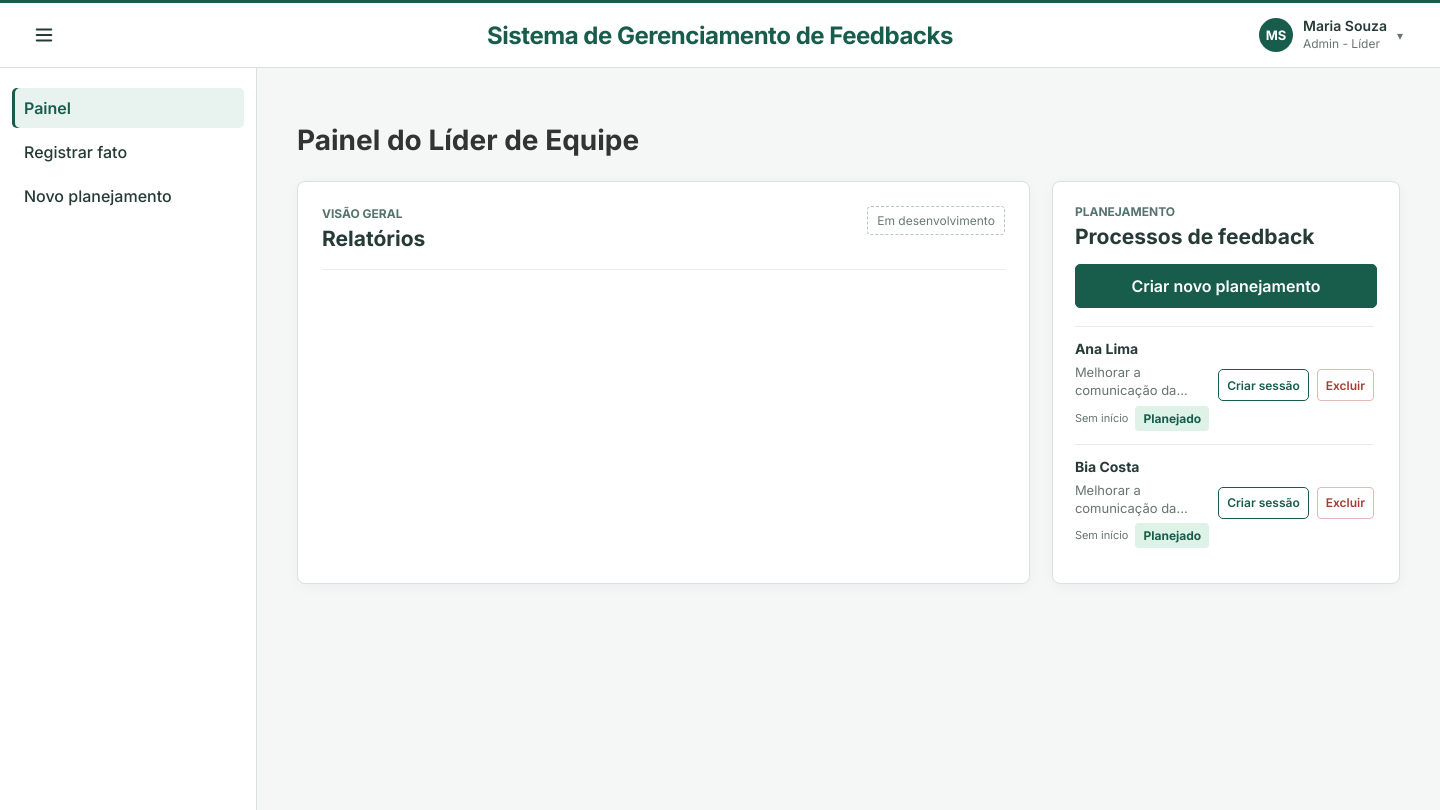
Test: Dashboard › deve manter bloqueado o botão que ainda espera resposta quando outro termina
This screenshot has width=1440, height=810.
Click the 1st button "Criar sessão": (1264, 385) x1=1218 y1=369 x2=1309 y2=401
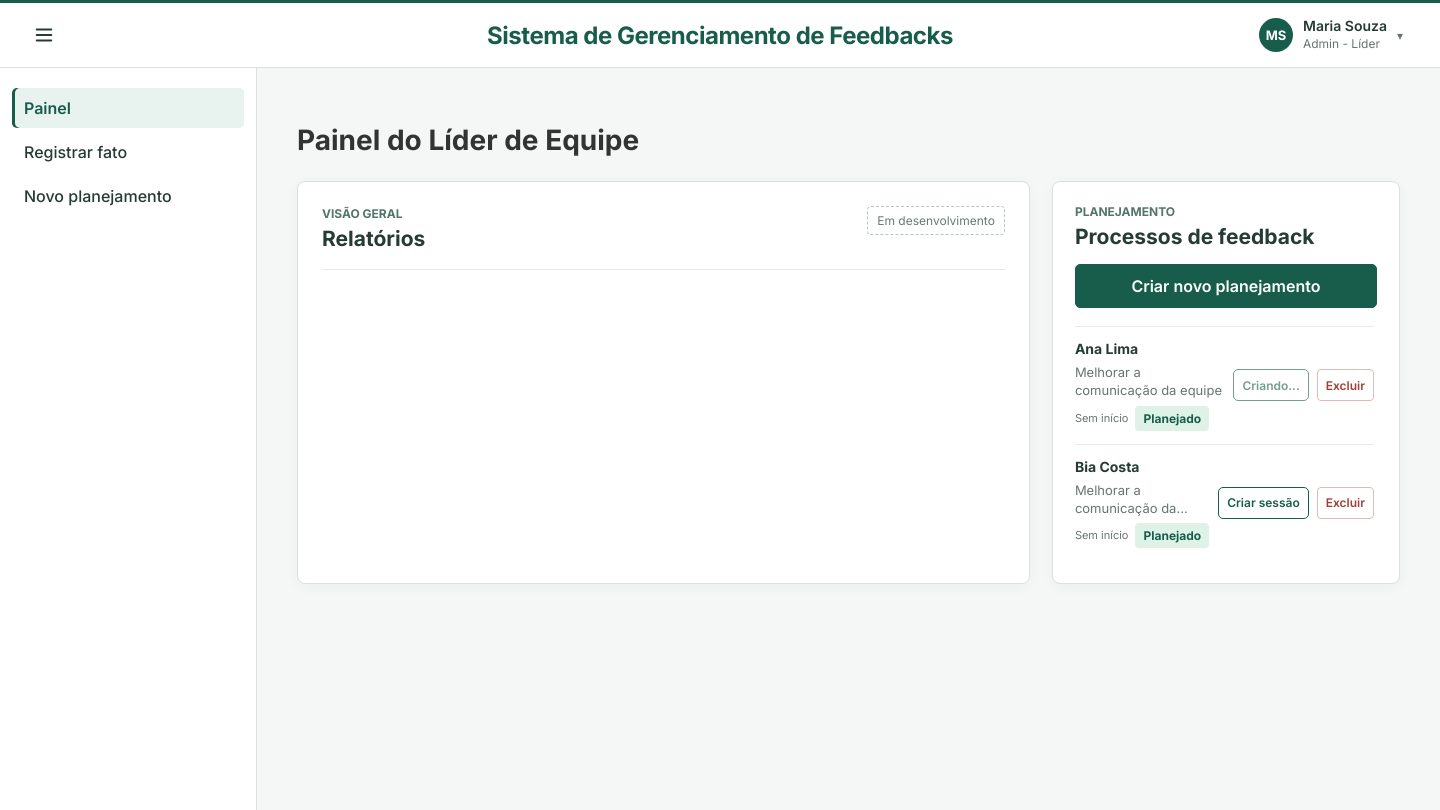
Click the button "Criar sessão": (1264, 503) x1=1218 y1=487 x2=1309 y2=519
(page scrolled)
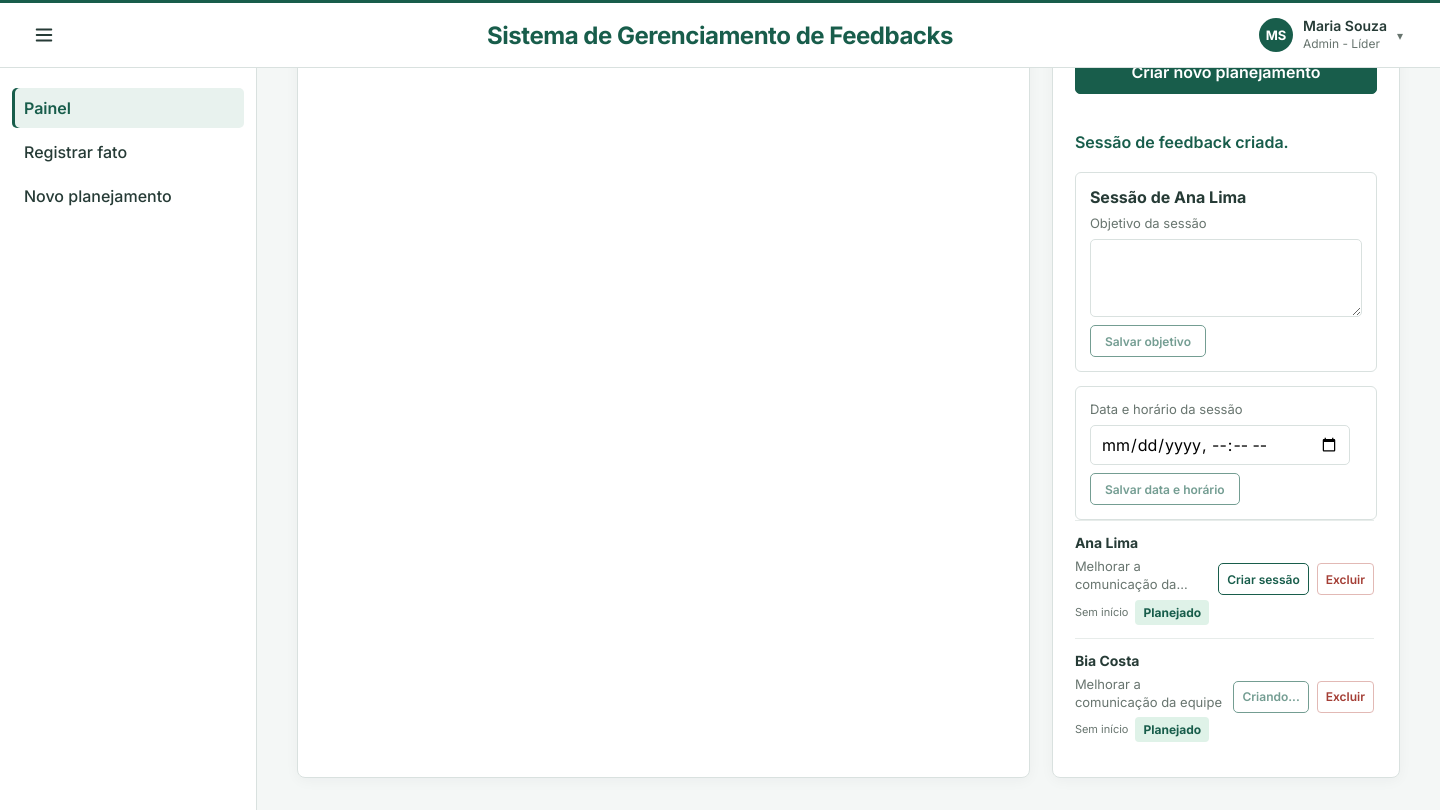
Expected: the button "Criar sessão" is shown, x1=1218 y1=563 x2=1309 y2=595
Expected: the button "Criando..." is shown, x1=1233 y1=681 x2=1309 y2=713
Expected: the button "Criando..." is disabled, x1=1233 y1=681 x2=1309 y2=713
